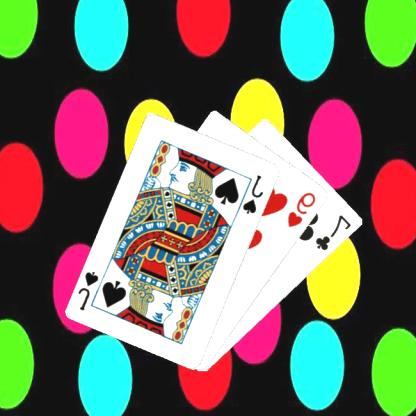7C: (314, 212, 355, 252)
9H: (287, 189, 319, 229)
JS: (242, 172, 267, 216), (78, 268, 102, 312)
